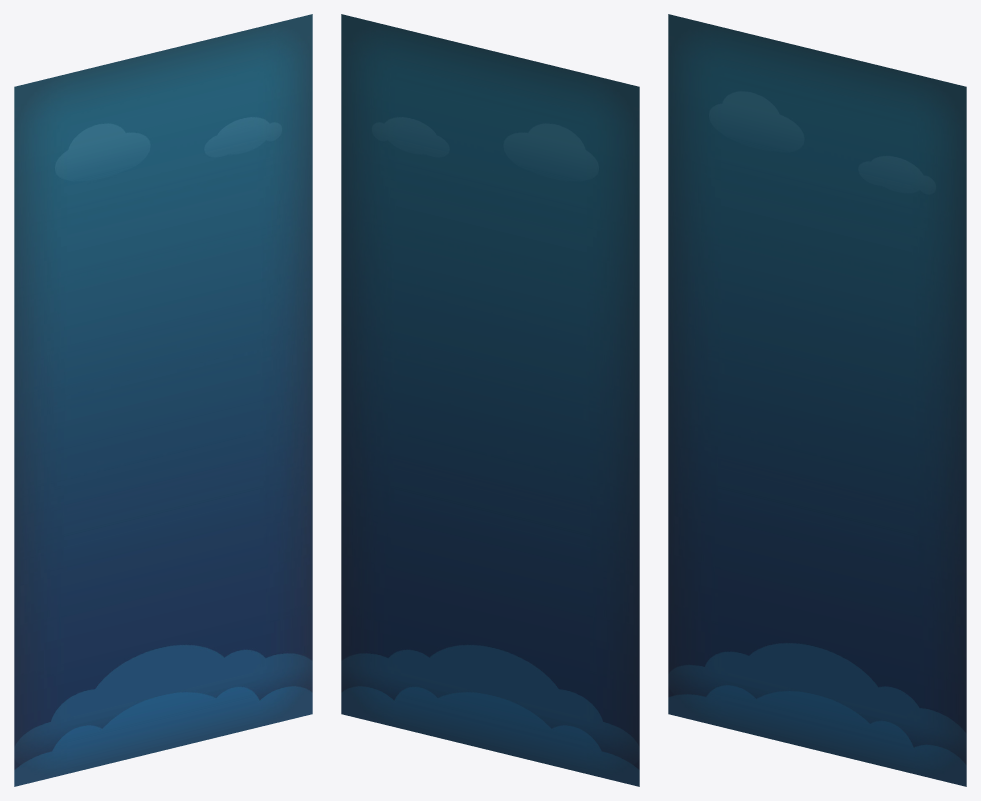
Rendered from planeBg01.FBX.
3 views of the same model, side by side, from view 1: azimuth 30°, elevation 25°; view 2: azimuth 150°, elevation 25°; view 3: azimuth 330°, elevation 25° (orthographic).
Parts seen in each view (by area): view 1: Plane001; view 2: Plane001; view 3: Plane001.
Boxes of the visible parts, left/top/right/bottom form: Plane001: left=14, top=14, right=312, bottom=786; Plane001: left=341, top=14, right=639, bottom=786; Plane001: left=668, top=14, right=966, bottom=786.
Size of the model in its own units: 98.43 by 220 by 3.59e-05.
